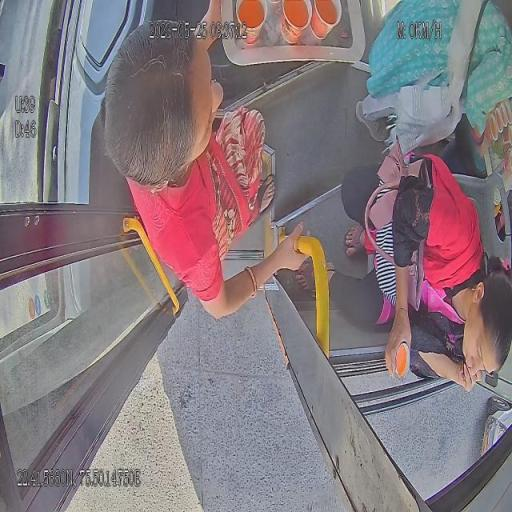persona: (102, 2, 310, 320), (294, 138, 512, 393), (354, 0, 512, 180)
